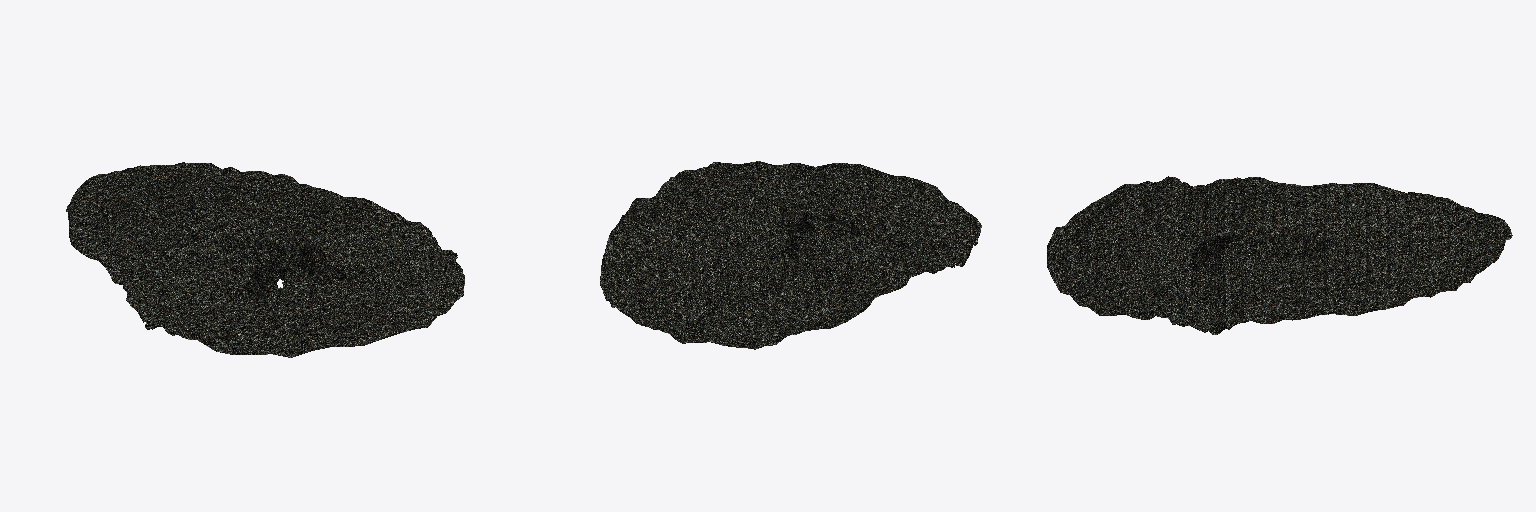
3 renders of one model, left to right at view 1: azimuth 30°, elevation 25°; view 2: azimuth 150°, elevation 25°; view 3: azimuth 270°, elevation 25°, orthographic.
Visible parts, largest first — view 1: mesh1, mesh0; view 2: mesh1, mesh0; view 3: mesh1, mesh0.
Boxes of the visible parts, box(x1,y1,x2,y2) form: mesh1: box(66, 162, 464, 357); mesh0: box(225, 260, 320, 298); mesh1: box(600, 161, 981, 349); mesh0: box(742, 222, 837, 272); mesh1: box(1047, 176, 1512, 334); mesh0: box(1187, 234, 1304, 276).
Bounding box in the file's own units: 1118 × 112 × 1479.
Materials: 2 (1 with a texture image).